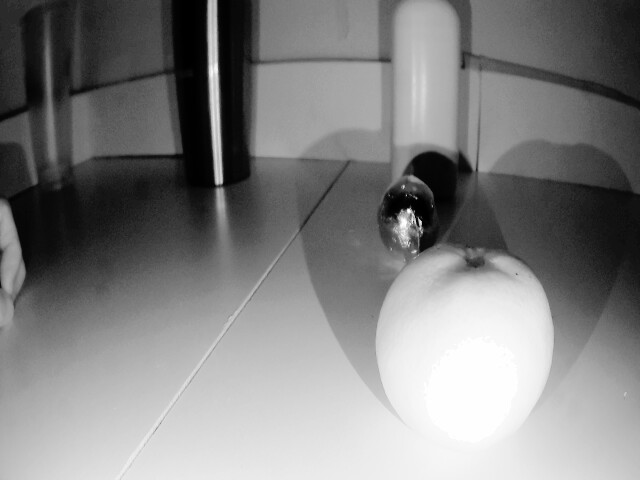silver: (380, 176, 435, 271)
